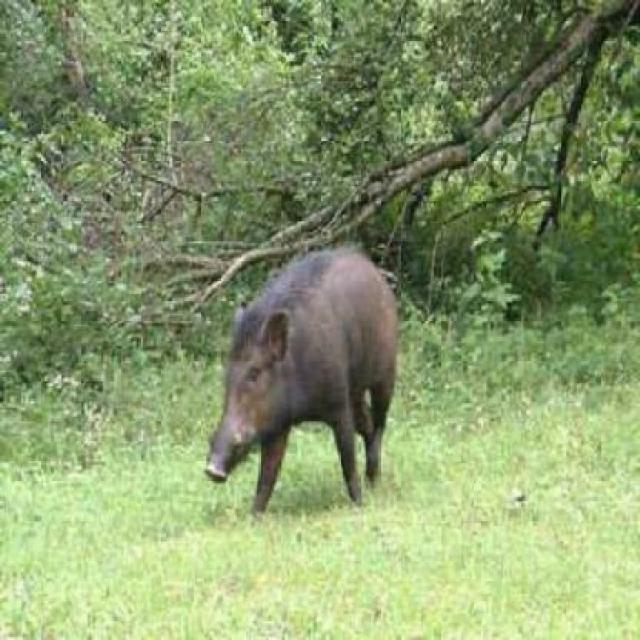pig: (137, 186, 429, 490)
